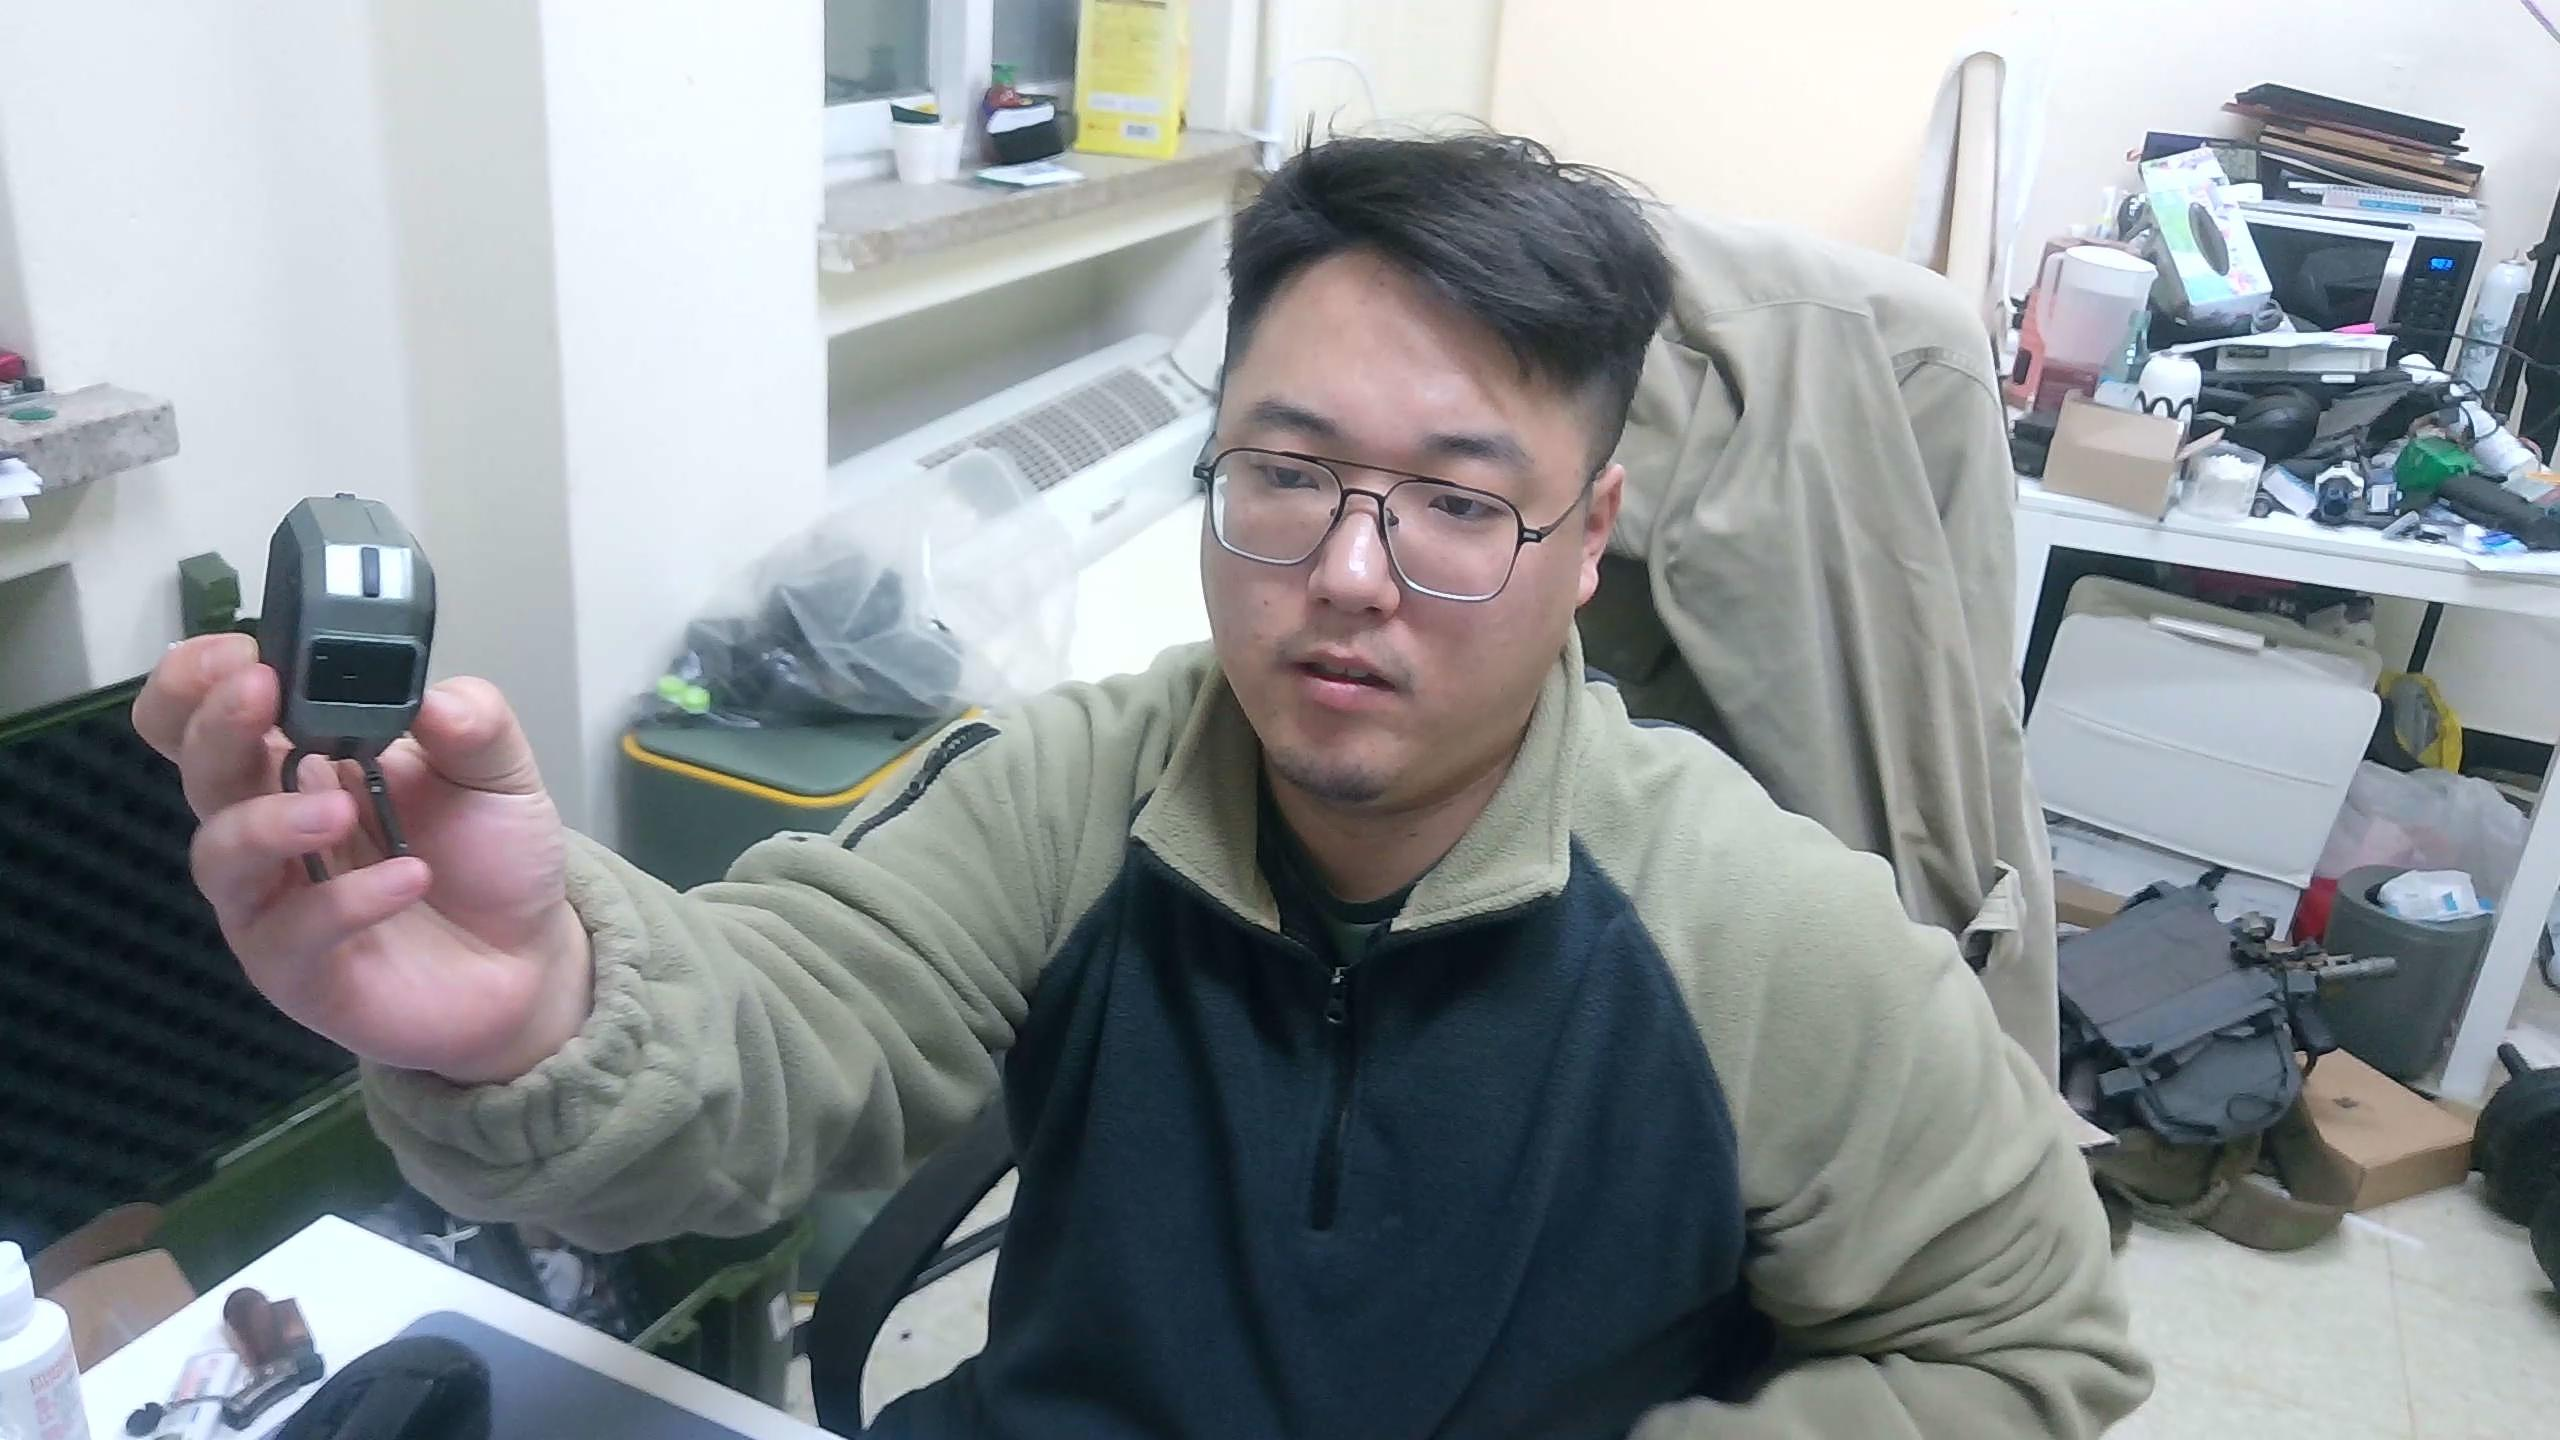blue_pliers: (255, 491, 440, 883)
